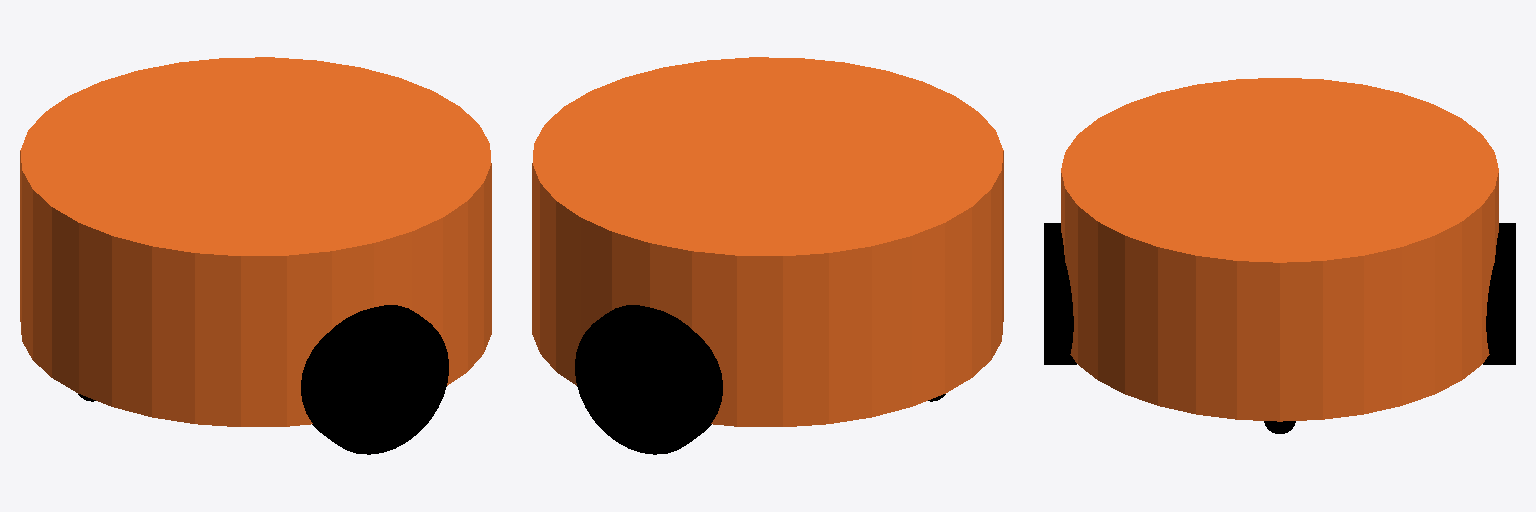
robot.urdf — mycar:
<robot name="mycar">
    <!-- 1. 添加footprint -->
    <link name="base_footprint">
        <visual>
            <geometry>
                <sphere radius="0.001"/>
            </geometry>
        </visual>
    </link>
    <!-- 2.添加底盘 -->
    <link name="base_link">
        <visual>
            <geometry>
                <cylinder radius="0.1" length="0.08"/>
            </geometry>

            <origin xyz="0.0 0.0 0.0" rpy="0.0 0.0 0.0"/>
            
            <material name="base_link_color">
                <color rgba="1 0.5 0.2 0.5"/>
            </material>
        </visual>
    </link>
    <joint name="link2footprint" type="fixed">
        <origin xyz="0.0 0.0 0.055" rpy="0.0 0.0 0.0"/>
        <parent link="base_footprint"/>
        <child link="base_link"/>
    </joint>

    <!-- 3.添加驱动轮 -->
    <link name="left_wheel">
        <visual>
            <geometry>
                <cylinder radius="0.0325" length="0.015"/>
            </geometry>
            <origin xyz="0.0 0.0 0.0" rpy="1.5708 0.0 0.0"/>
            <material name="wheel_color">
                <color rgba="0.0 0.0 0.0 0.3"/>
            </material>
            
        </visual>
        
    </link>

    <link name="right_wheel">
        <visual>
            <geometry>
                <cylinder radius="0.0325" length="0.015"/>
            </geometry>
            <origin xyz="0.0 0.0 0.0" rpy="1.5708 0.0 0.0"/>
            <material name="wheel_color">
                <color rgba="0.0 0.0 0.0 0.3"/>
            </material>
            
        </visual>
        
    </link>

    <joint name="left2link" type="continuous">
        <origin xyz="0.0 0.1 -0.0225" rpy="0.0 0.0 0.0"/>
        <parent link="base_link"/>
        <child link="left_wheel"/>
        <axis xyz="0.0 1 0.0"/>
        
    </joint>

    <joint name="right2link" type="continuous">
        <origin xyz="0.0 -0.1 -0.0225" rpy="0.0 0.0 0.0"/>
        <parent link="base_link"/>
        <child link="right_wheel"/>
        <axis xyz="0.0 1 0.0"/>
        
    </joint>

    <!-- 4.添加万向轮 -->
    <link name="front_wheel">
        <visual>
            <geometry>
                <sphere radius="0.0075"/>
            </geometry>
            <origin xyz="0.0 0.0 0.0" rpy="0.0 0.0 0.0"/>
            <material name="wheel_color">
                <color rgba="0.0 0.0 0.0 0.3"/>
            </material>
        </visual>
    </link>
    <link name="back_wheel">
        <visual>
            <geometry>
                <sphere radius="0.0075"/>
            </geometry>
            <origin xyz="0.0 0.0 0.0" rpy="0.0 0.0 0.0"/>
            <material name="wheel_color">
                <color rgba="0.0 0.0 0.0 0.3"/>
            </material>
        </visual>
    </link>
    
    <joint name="front2link" type="continuous">
        <origin xyz="0.08 0 -0.0475" rpy="0.0 0.0 0.0"/>
        <parent link="base_link"/>
        <child link="front_wheel"/>
        <axis xyz="0.0 1 0.0"/>
    </joint>

    <joint name="back2link" type="continuous">
        <origin xyz="-0.08 0 -0.0475" rpy="0.0 0.0 0.0"/>
        <parent link="base_link"/>
        <child link="back_wheel"/>
        <axis xyz="0.0 1 0.0"/>
    </joint>
</robot>

--- Facts derived from the render (not from the file) ---
Views: 3 orthographic renders of the robot side by side, from view 1: azimuth 30°, elevation 25°; view 2: azimuth 150°, elevation 25°; view 3: azimuth 270°, elevation 25°.
Model mycar with 6 links and 5 joints (4 continuous, 1 fixed), rooted at base_footprint, posed all joints at 0.
Visible links, largest first — view 1: base_link, right_wheel; view 2: base_link, left_wheel; view 3: base_link, left_wheel, right_wheel.
Link boxes in pixels (x1,y1,x2,y2): base_link: [20, 57, 491, 426]; right_wheel: [301, 305, 448, 454]; base_link: [532, 57, 1003, 426]; left_wheel: [575, 305, 722, 454]; base_link: [1061, 78, 1498, 421]; left_wheel: [1483, 223, 1515, 364]; right_wheel: [1044, 223, 1076, 364].
Size in the robot's own frame: 0.2 by 0.215 by 0.096 metres.
Geometry: primitives only (box / cylinder / sphere), no mesh files.
